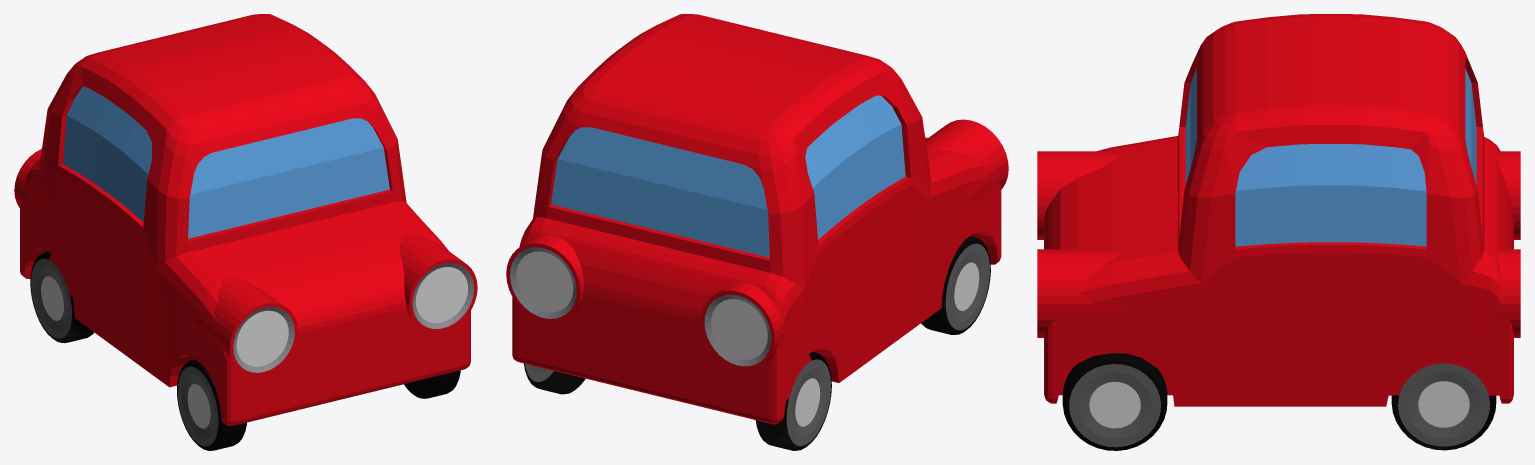
Rendered from car.glb.
The picture shows the model from 3 angles, left to right: view 1: azimuth 30°, elevation 25°; view 2: azimuth 150°, elevation 25°; view 3: azimuth 270°, elevation 25°; orthographic projection. The views are drawn at different scales.
Visible parts, largest first — view 1: Cube; view 2: Cube; view 3: Cube.
Boxes of the visible parts, x1,y1,x2,y2 form: Cube: (14, 14, 477, 450); Cube: (506, 14, 1008, 450); Cube: (1037, 14, 1520, 450).
Size of the model in its own units: 5.04 by 5.63 by 7.58.
